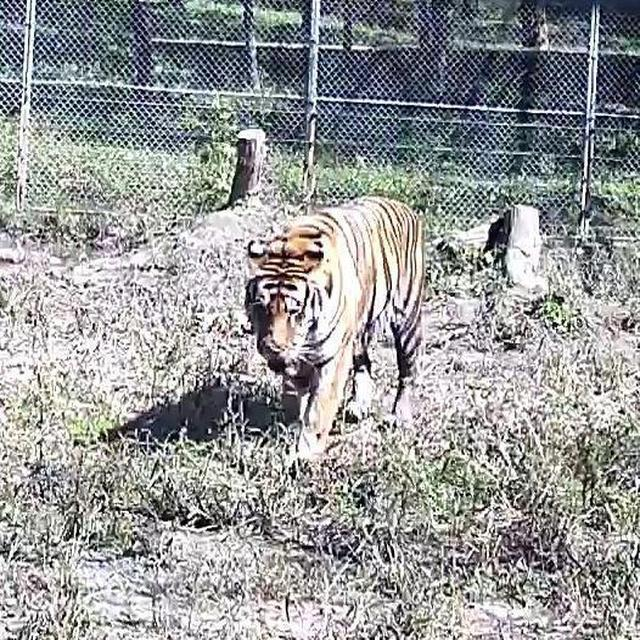tiger: (220, 184, 458, 473)
